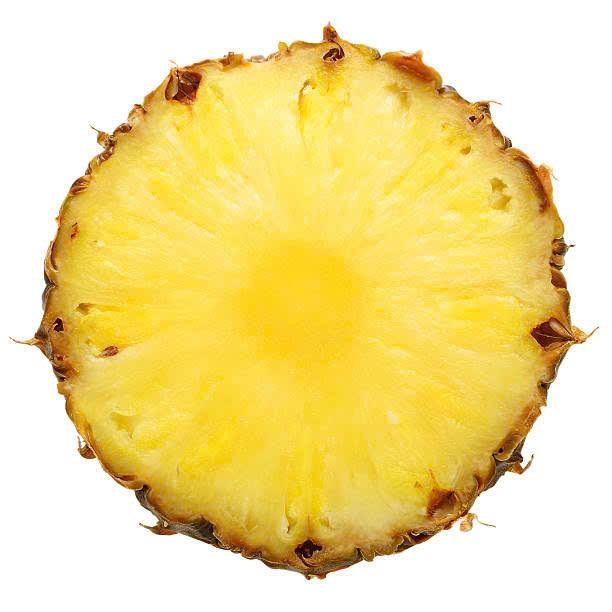pineapple: (59, 29, 564, 579)
